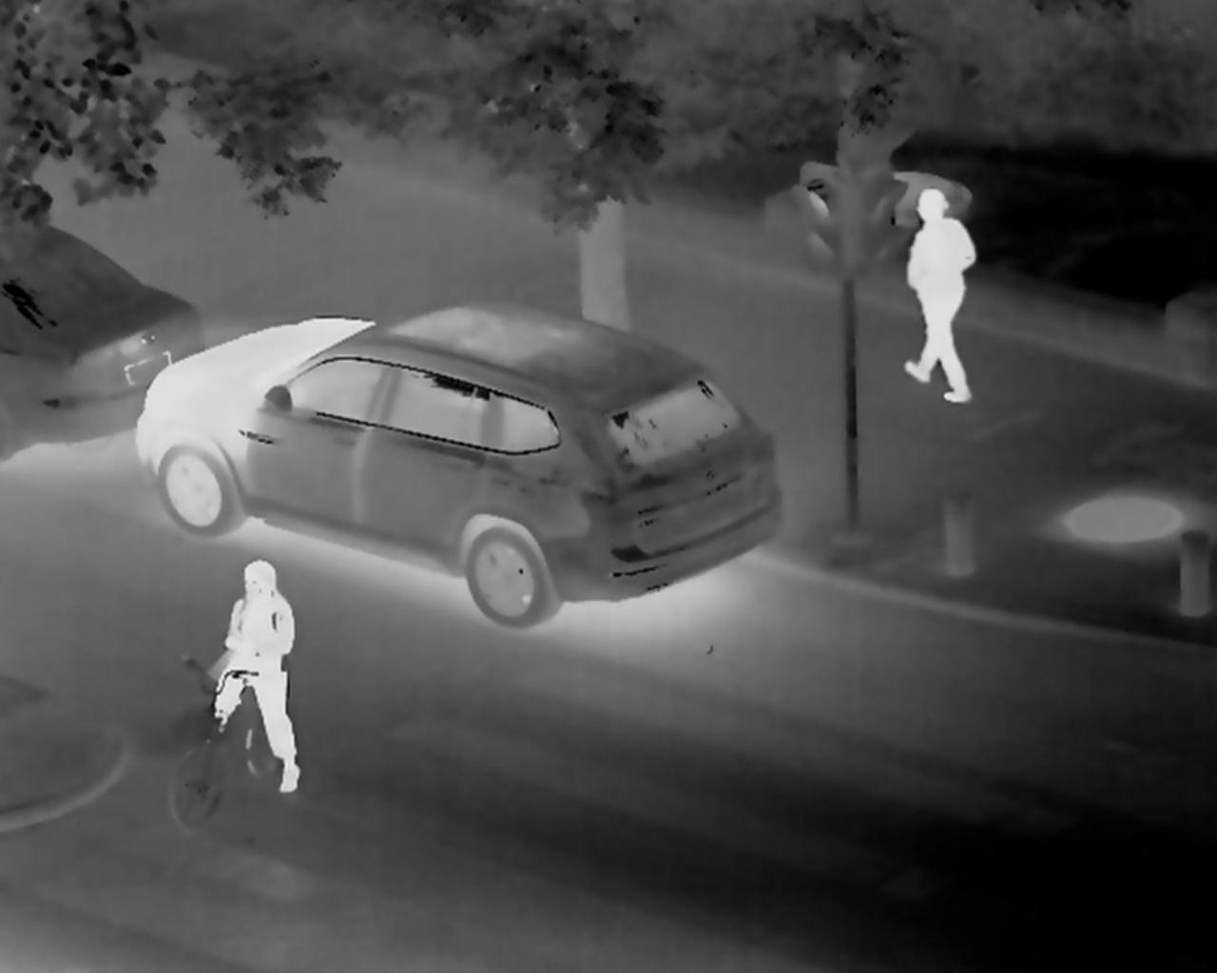person: (206, 548, 303, 794), (888, 176, 980, 415)
